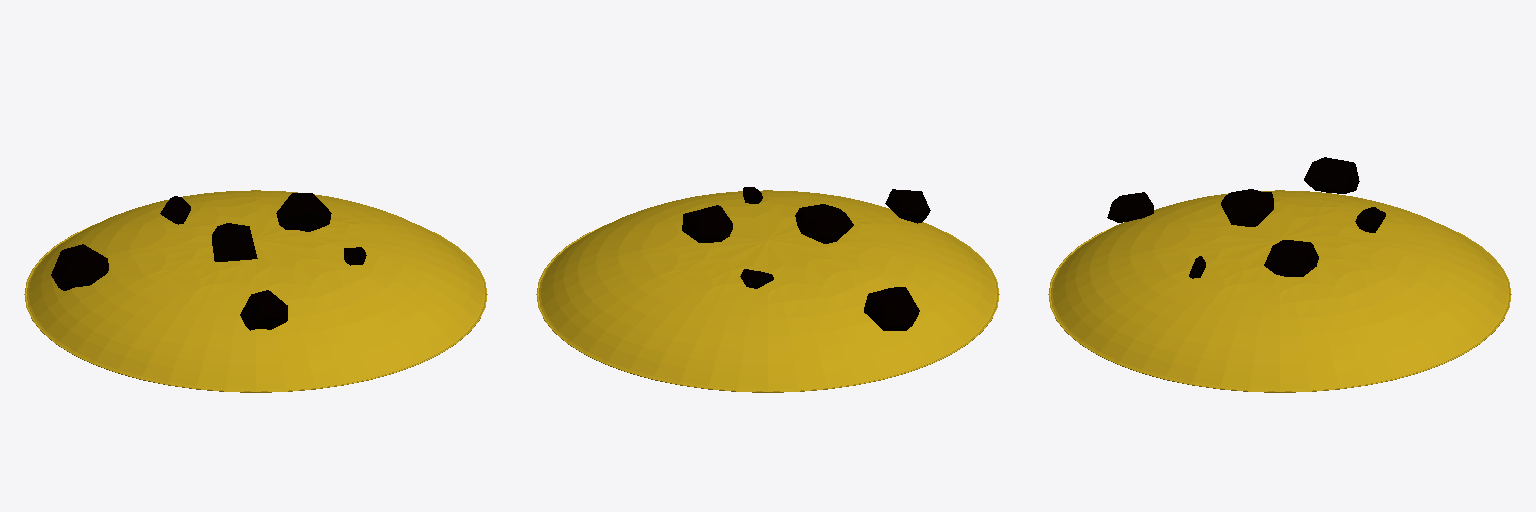
The model's file is cookie.obj.
3 renders of one model, left to right at view 1: azimuth 30°, elevation 25°; view 2: azimuth 150°, elevation 25°; view 3: azimuth 270°, elevation 25°, orthographic.
Parts seen in each view (by area): view 1: Окружность, Куб, Куб.002, Куб.003, Куб.004, Куб.001; view 2: Окружность, Куб, Куб.003, Куб.002, Куб.004; view 3: Окружность, Куб, Куб.002, Куб.003, Куб.004, Куб.001.
Part boxes in pixels (bbox=[...]): Окружность: bbox=[24, 190, 487, 392]; Куб: bbox=[51, 244, 108, 290]; Куб.002: bbox=[276, 193, 331, 231]; Куб.003: bbox=[212, 223, 257, 261]; Куб.004: bbox=[240, 290, 287, 330]; Куб.001: bbox=[160, 196, 190, 224]; Окружность: bbox=[536, 190, 999, 392]; Куб: bbox=[864, 287, 919, 330]; Куб.003: bbox=[795, 204, 853, 243]; Куб.002: bbox=[682, 205, 732, 242]; Куб.004: bbox=[885, 189, 930, 223]; Окружность: bbox=[1048, 190, 1511, 392]; Куб: bbox=[1304, 157, 1359, 193]; Куб.002: bbox=[1264, 240, 1318, 276]; Куб.003: bbox=[1221, 189, 1273, 226]; Куб.004: bbox=[1107, 192, 1153, 222]; Куб.001: bbox=[1355, 207, 1385, 232].
Size of the model in its own units: 1.9 by 0.4002 by 1.9.